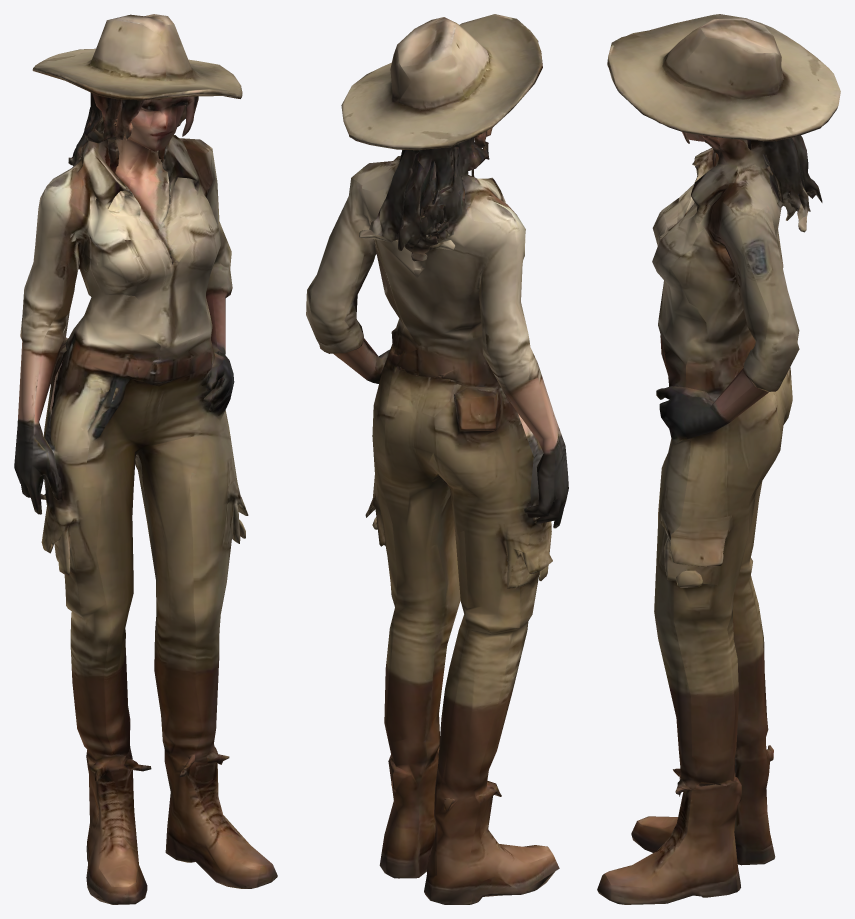
File: crew-personA.glb
3 views of the same model, side by side, from view 1: azimuth 30°, elevation 25°; view 2: azimuth 150°, elevation 25°; view 3: azimuth 270°, elevation 25° (orthographic).
Size of the model in its own units: 0.565 by 2 by 0.5176.
1 material, 1 textured.
